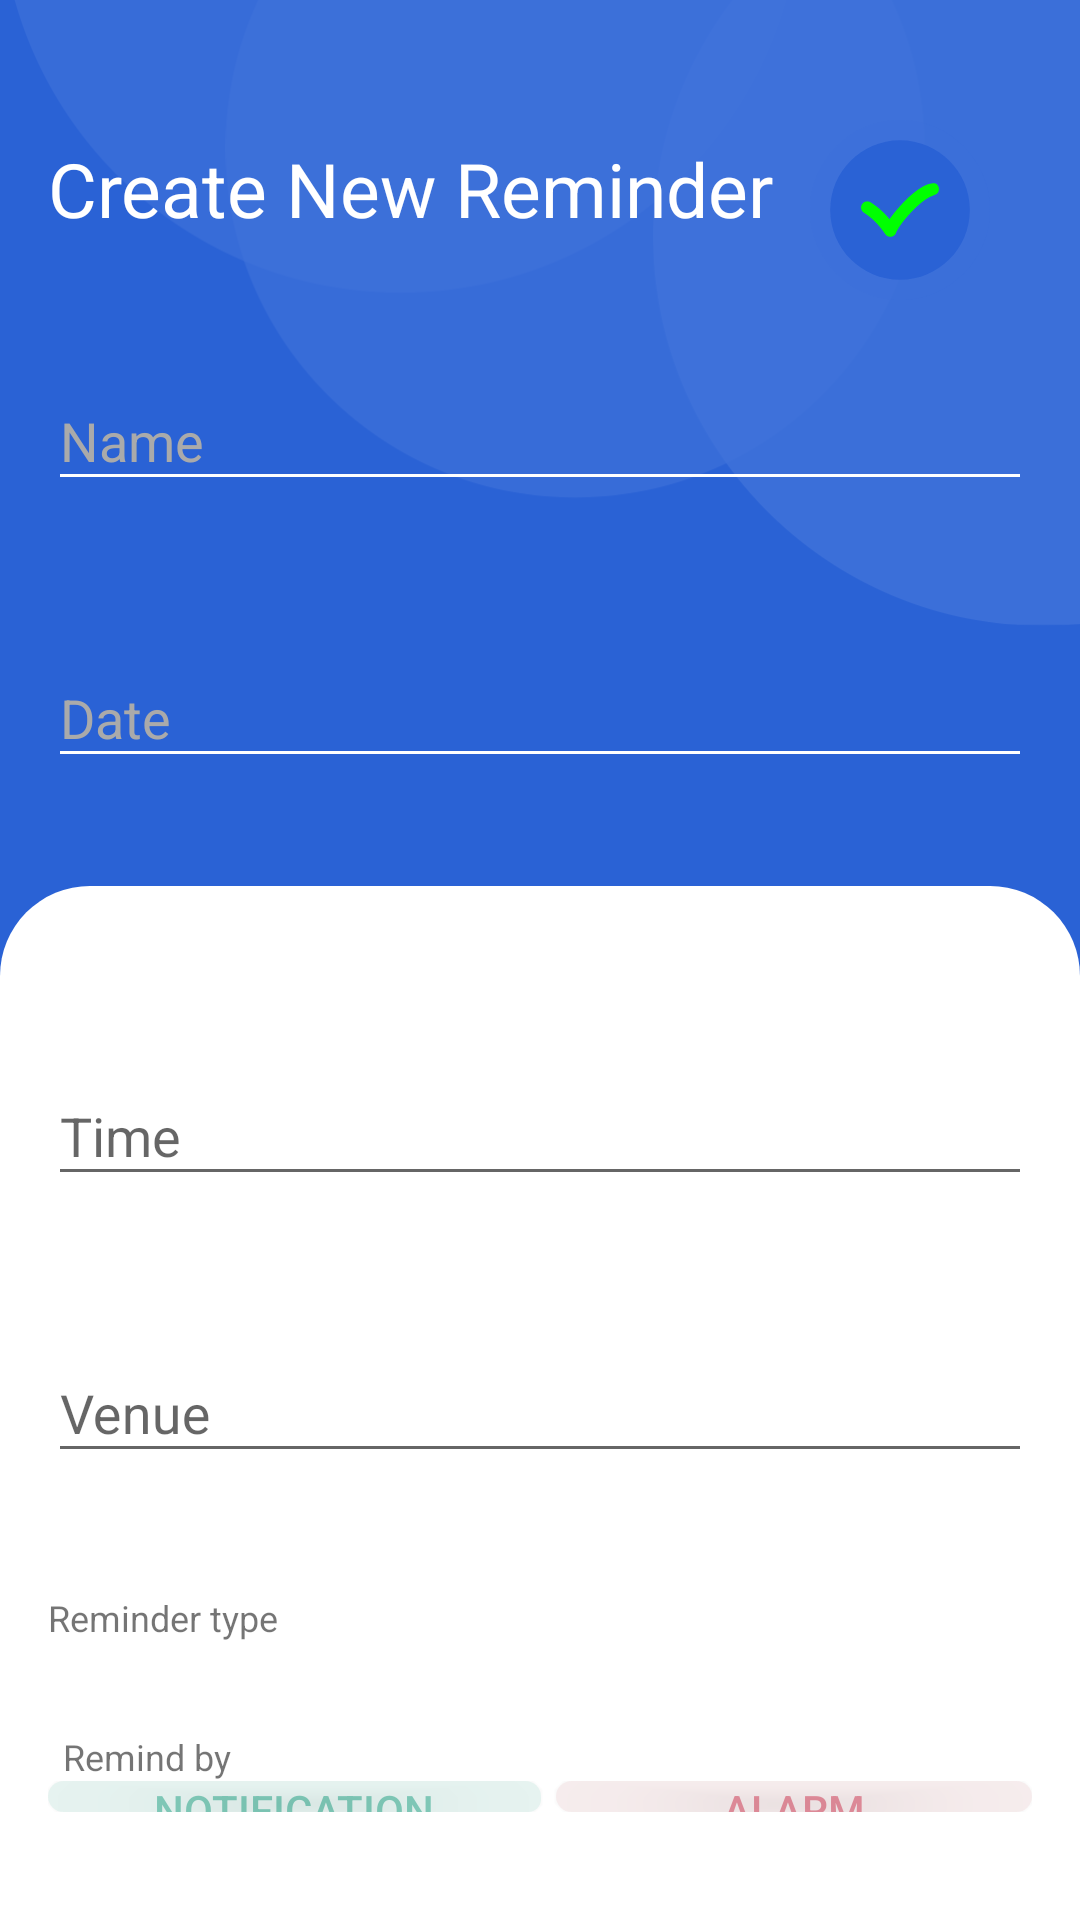

Where to tap for icons on this 1080 × 1920 app screen, as (x=x, y=y):
checkmark: (x=900, y=210)
